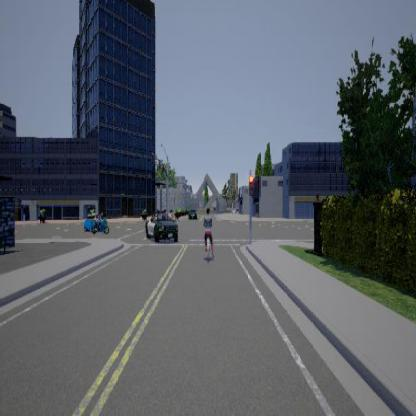bike: (201, 206, 216, 258)
motobike: (90, 214, 106, 232)
traffic_light_red: (248, 171, 252, 199)
vehicle: (145, 210, 178, 242), (83, 212, 109, 233)
